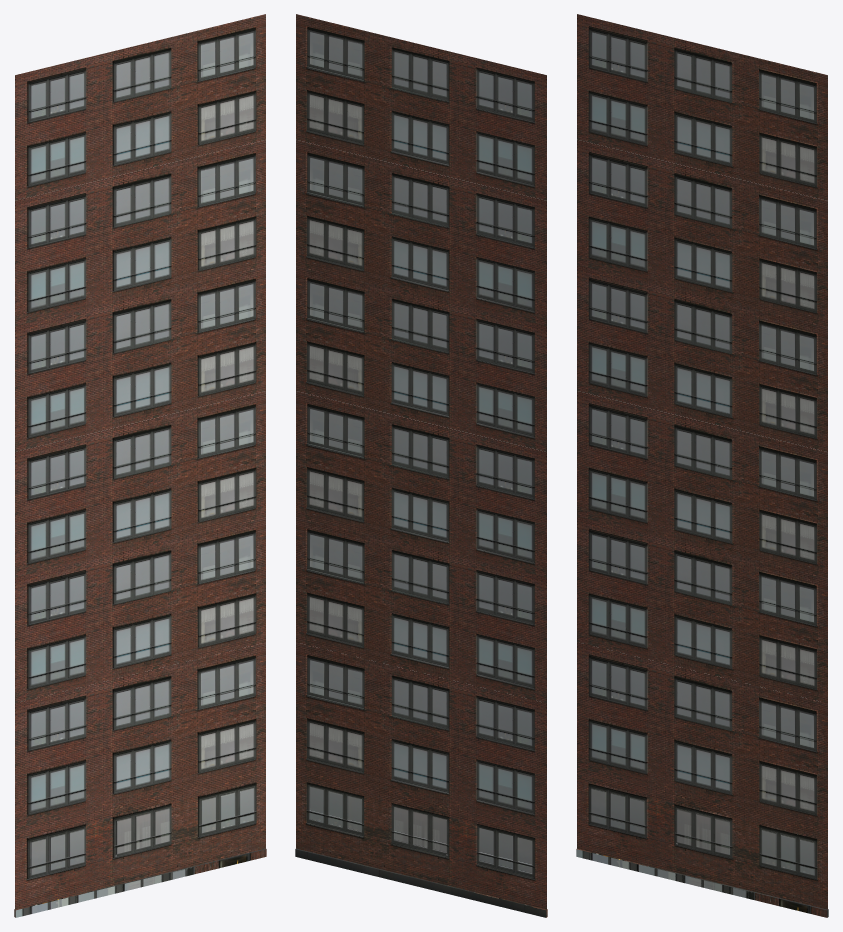
Rendered from predio2.fbx.
The picture shows the model from 3 angles, left to right: view 1: azimuth 30°, elevation 25°; view 2: azimuth 150°, elevation 25°; view 3: azimuth 330°, elevation 25°; orthographic projection.
Visible parts, largest first — view 1: TexturesCom_HighRiseResidential0022_2_M.002; view 2: TexturesCom_HighRiseResidential0022_2_M.002; view 3: TexturesCom_HighRiseResidential0022_2_M.002.
Part boxes in pixels (x1,y1,x2,y2): TexturesCom_HighRiseResidential0022_2_M.002: (14,14,266,917); TexturesCom_HighRiseResidential0022_2_M.002: (295,14,547,917); TexturesCom_HighRiseResidential0022_2_M.002: (576,14,828,917).
Bounding box in the file's own units: 1956 × 6268 × 25.24.
